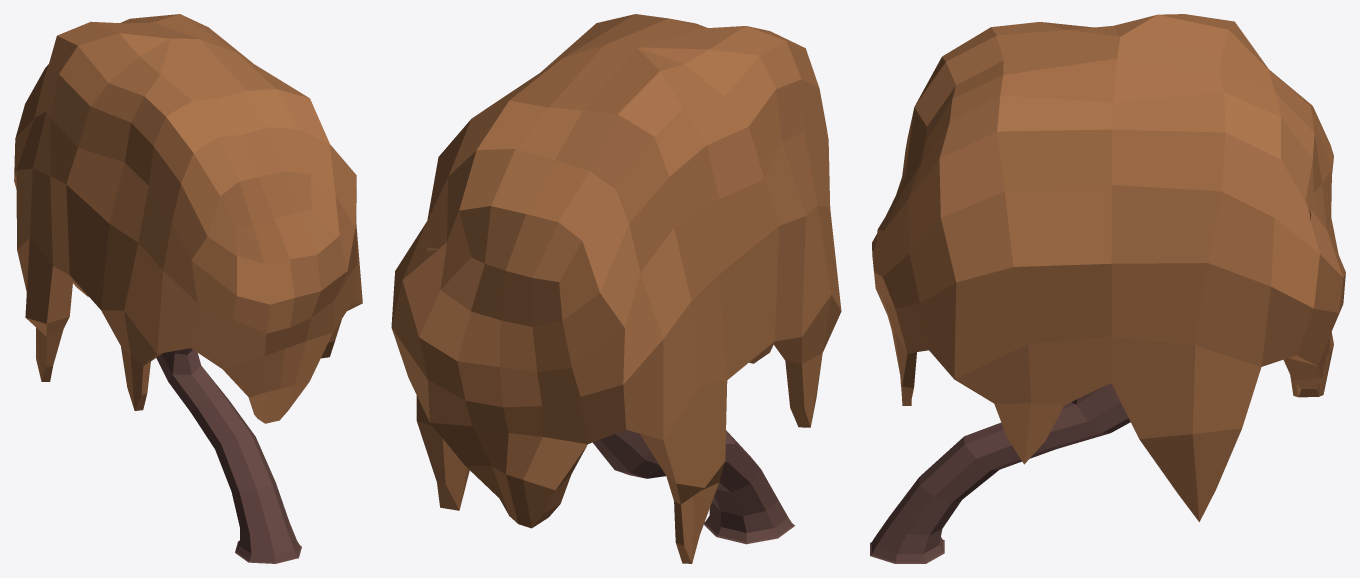
3 views of the same model, side by side, from view 1: azimuth 30°, elevation 25°; view 2: azimuth 150°, elevation 25°; view 3: azimuth 270°, elevation 25° (orthographic). The views are drawn at different scales.
Parts seen in each view (by area): view 1: Willow_Autumn_3; view 2: Willow_Autumn_3; view 3: Willow_Autumn_3.
Part boxes in pixels (x1,y1,x2,y2): Willow_Autumn_3: [14, 14, 362, 563]; Willow_Autumn_3: [391, 14, 841, 563]; Willow_Autumn_3: [870, 14, 1345, 563].
Bounding box in the file's own units: 1.32 × 2.35 × 1.98.
